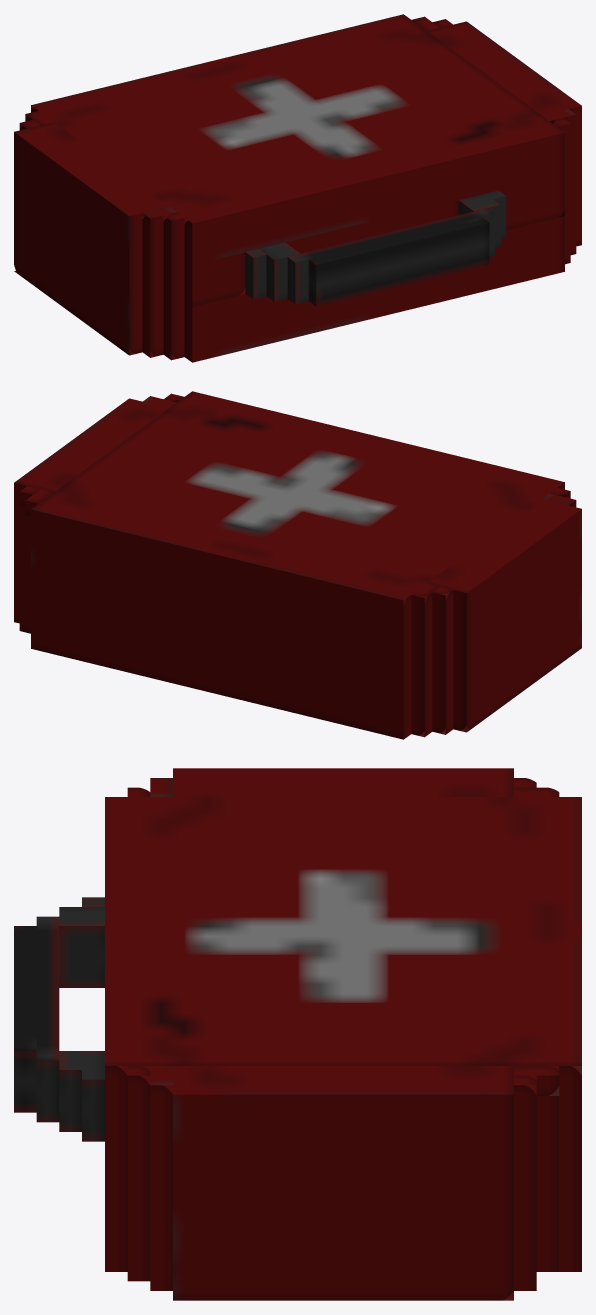
File: first_aid_kit.dae
The picture shows the model from 3 angles, top to bottom: view 1: azimuth 30°, elevation 25°; view 2: azimuth 150°, elevation 25°; view 3: azimuth 270°, elevation 25°; orthographic projection. The views are drawn at different scales.
Parts seen in each view (by area): view 1: first_aid_kit; view 2: first_aid_kit; view 3: first_aid_kit.
Part boxes in pixels (x1,y1,x2,y2): first_aid_kit: (14,14,581,362); first_aid_kit: (14,391,581,739); first_aid_kit: (14,768,581,1300).
Bounding box in the file's own units: 34 × 10 × 25.
1 material, 1 textured.
